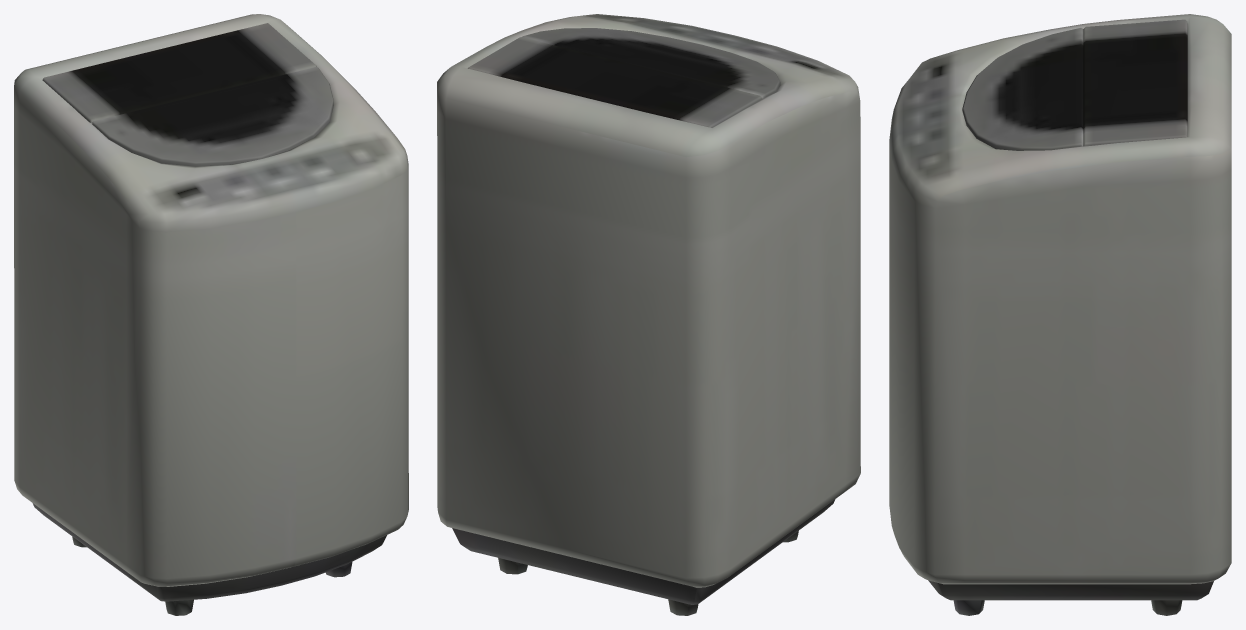
The picture shows the model from 3 angles, left to right: view 1: azimuth 30°, elevation 25°; view 2: azimuth 150°, elevation 25°; view 3: azimuth 270°, elevation 25°; orthographic projection. The views are drawn at different scales.
Size of the model in its own units: 6.84 by 11.38 by 7.17.
1 material, 1 textured.
